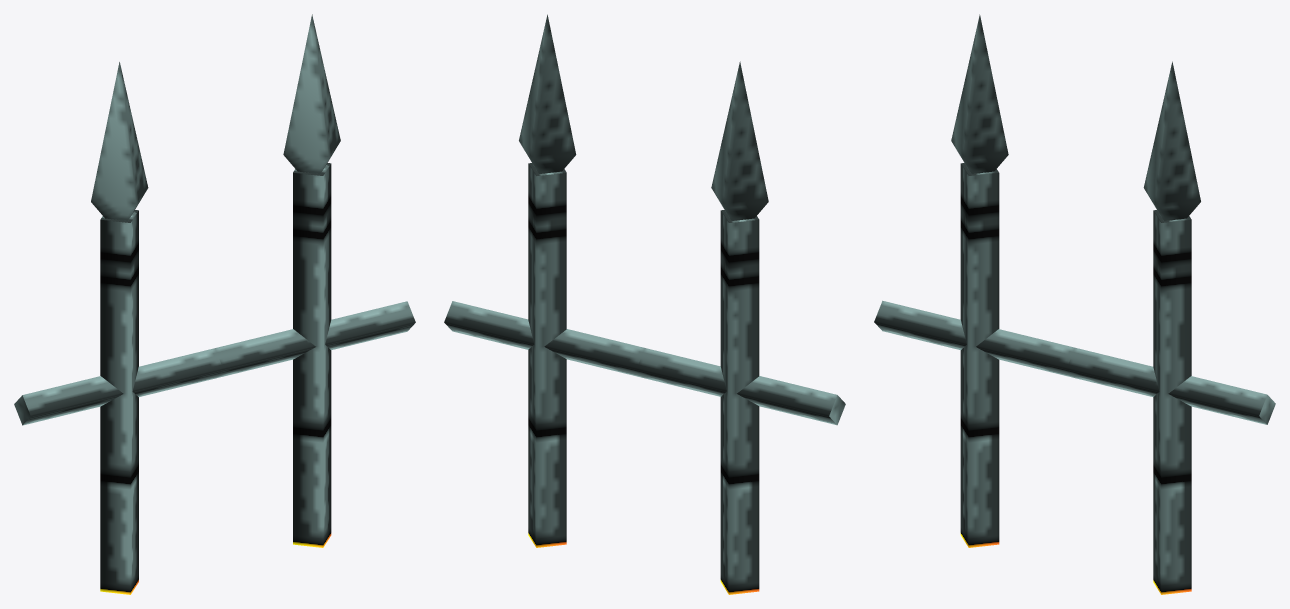
File: deco_cathedral_railingSmall.FBX
The picture shows the model from 3 angles, left to right: view 1: azimuth 30°, elevation 25°; view 2: azimuth 150°, elevation 25°; view 3: azimuth 330°, elevation 25°; orthographic projection.
Visible parts, largest first — view 1: deco_cathedral_railingSmall; view 2: deco_cathedral_railingSmall; view 3: deco_cathedral_railingSmall.
Part boxes in pixels (bbox=[...]): deco_cathedral_railingSmall: bbox=[14, 14, 415, 594]; deco_cathedral_railingSmall: bbox=[444, 14, 845, 594]; deco_cathedral_railingSmall: bbox=[874, 14, 1275, 594].
Bounding box in the file's own units: 2 × 2.61 × 0.2987.
1 material, 1 textured.
